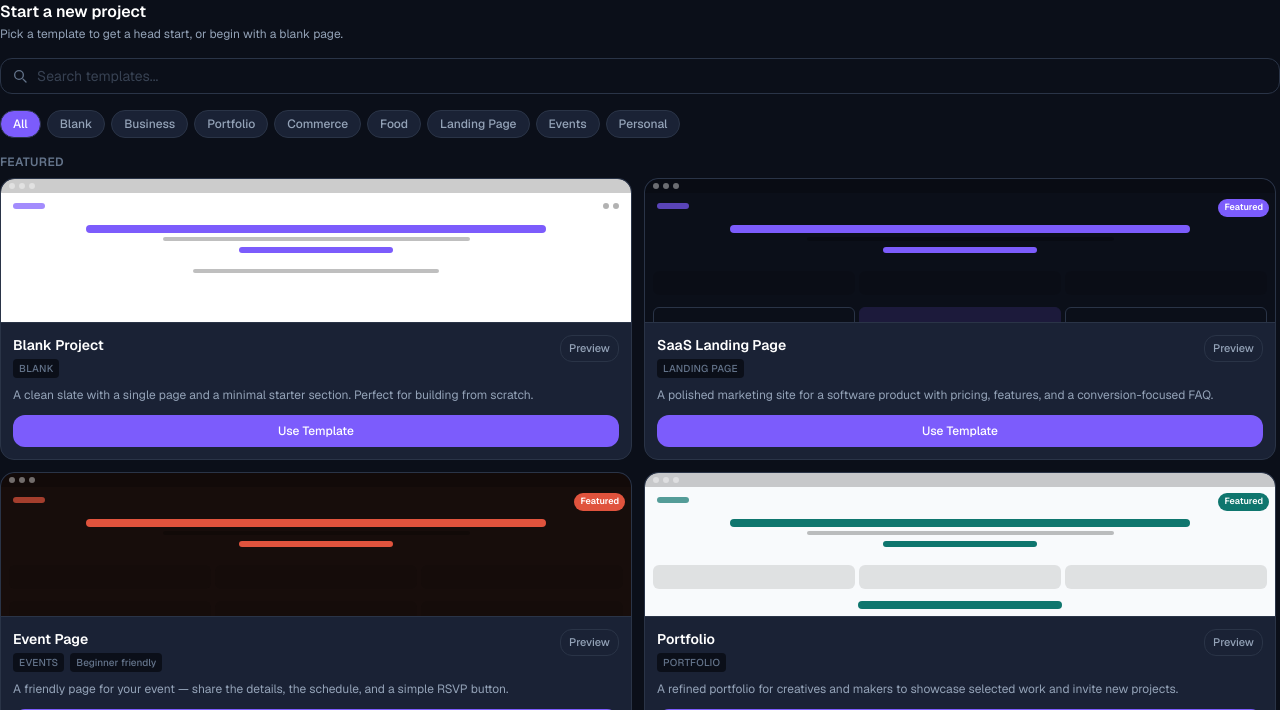
TemplateGallery › clearing the search restores all templates
Step 1. Type "zzz" into the field labelled "Search templates" → (640, 76), box [0,58,1279,94]
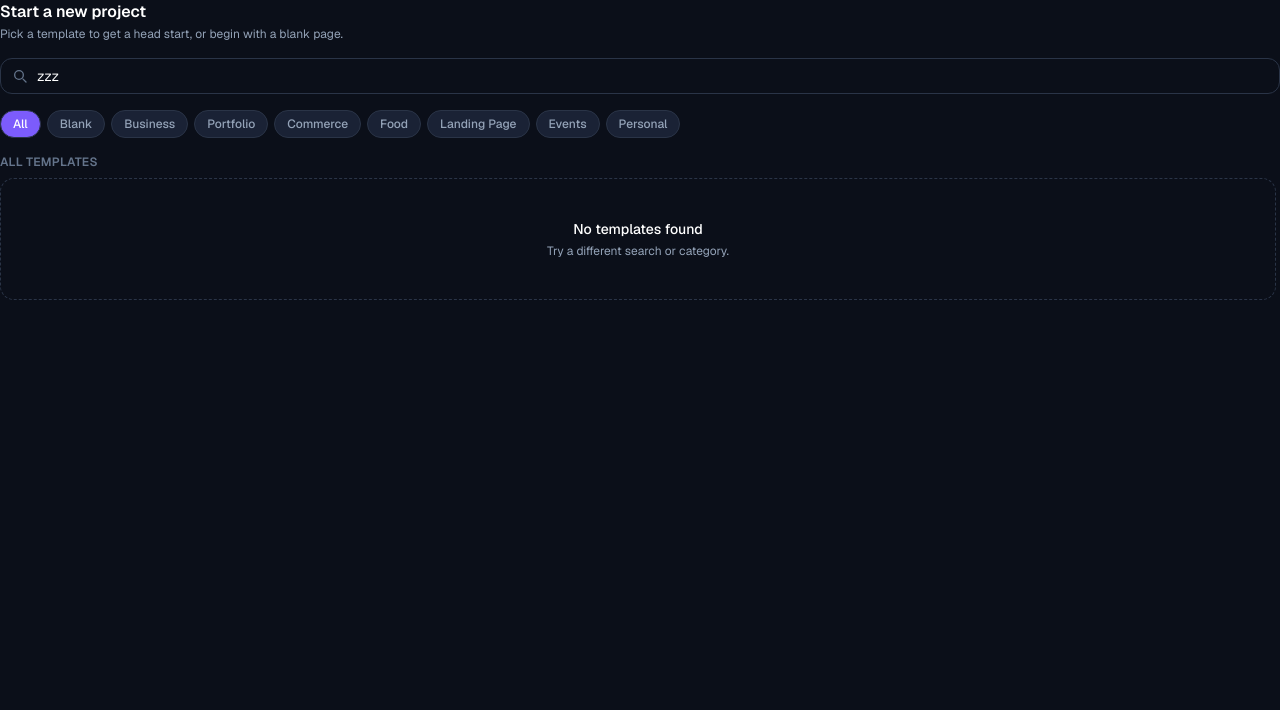
Now the text "No templates found" is shown, box [573,220,703,238]
Step 2. Clear the field named "Search templates" → (640, 76), box [0,58,1279,94]
(page scrolled)
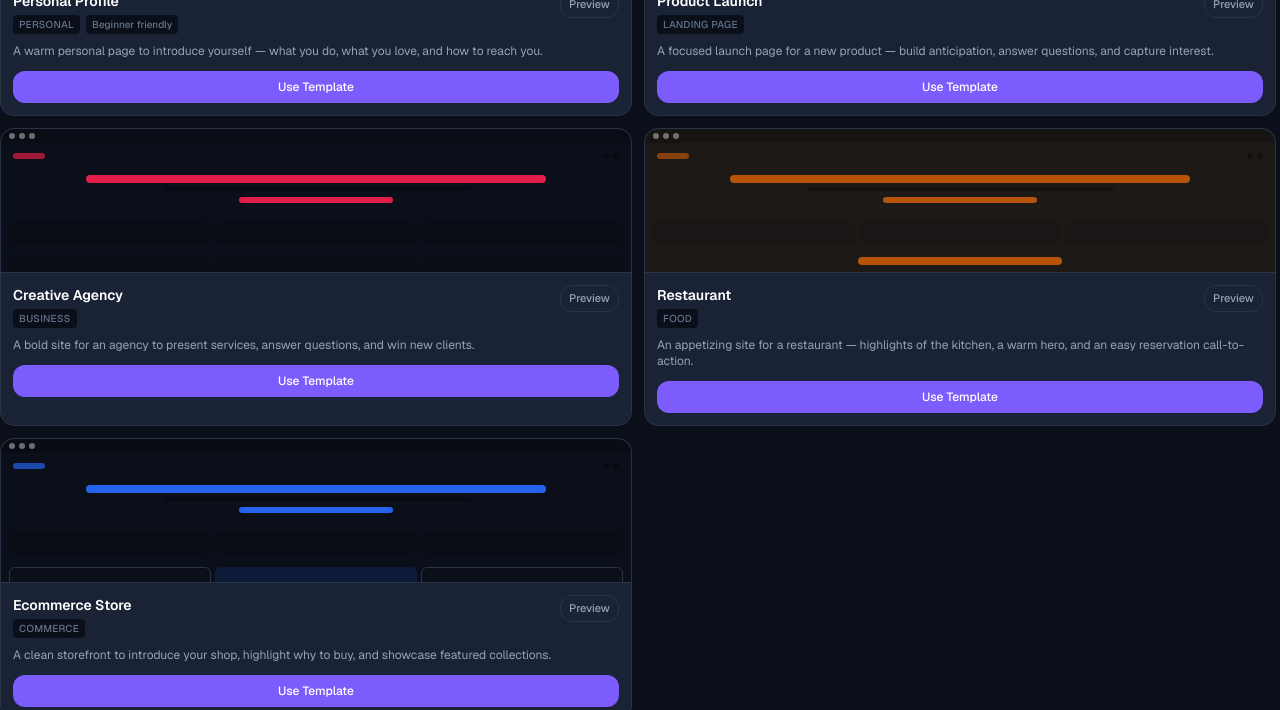
Now the text "No templates found" is gone
Now the heading "Ecommerce Store" is shown, box [13,595,132,615]
